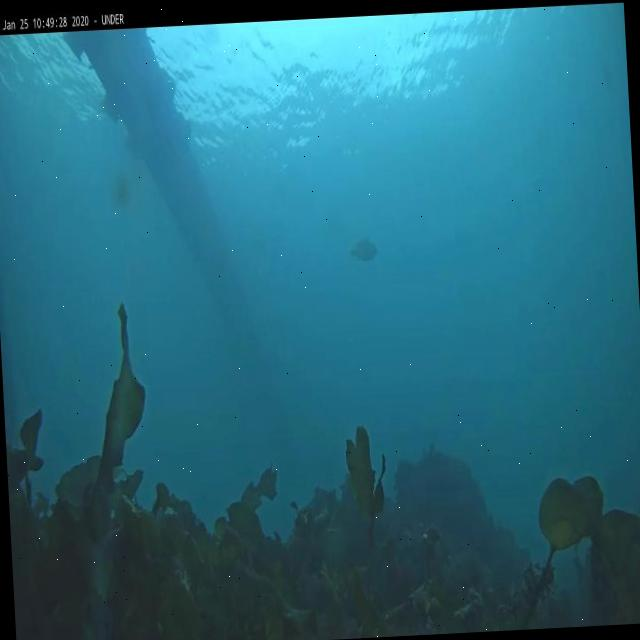fish: (350, 238, 379, 266)
